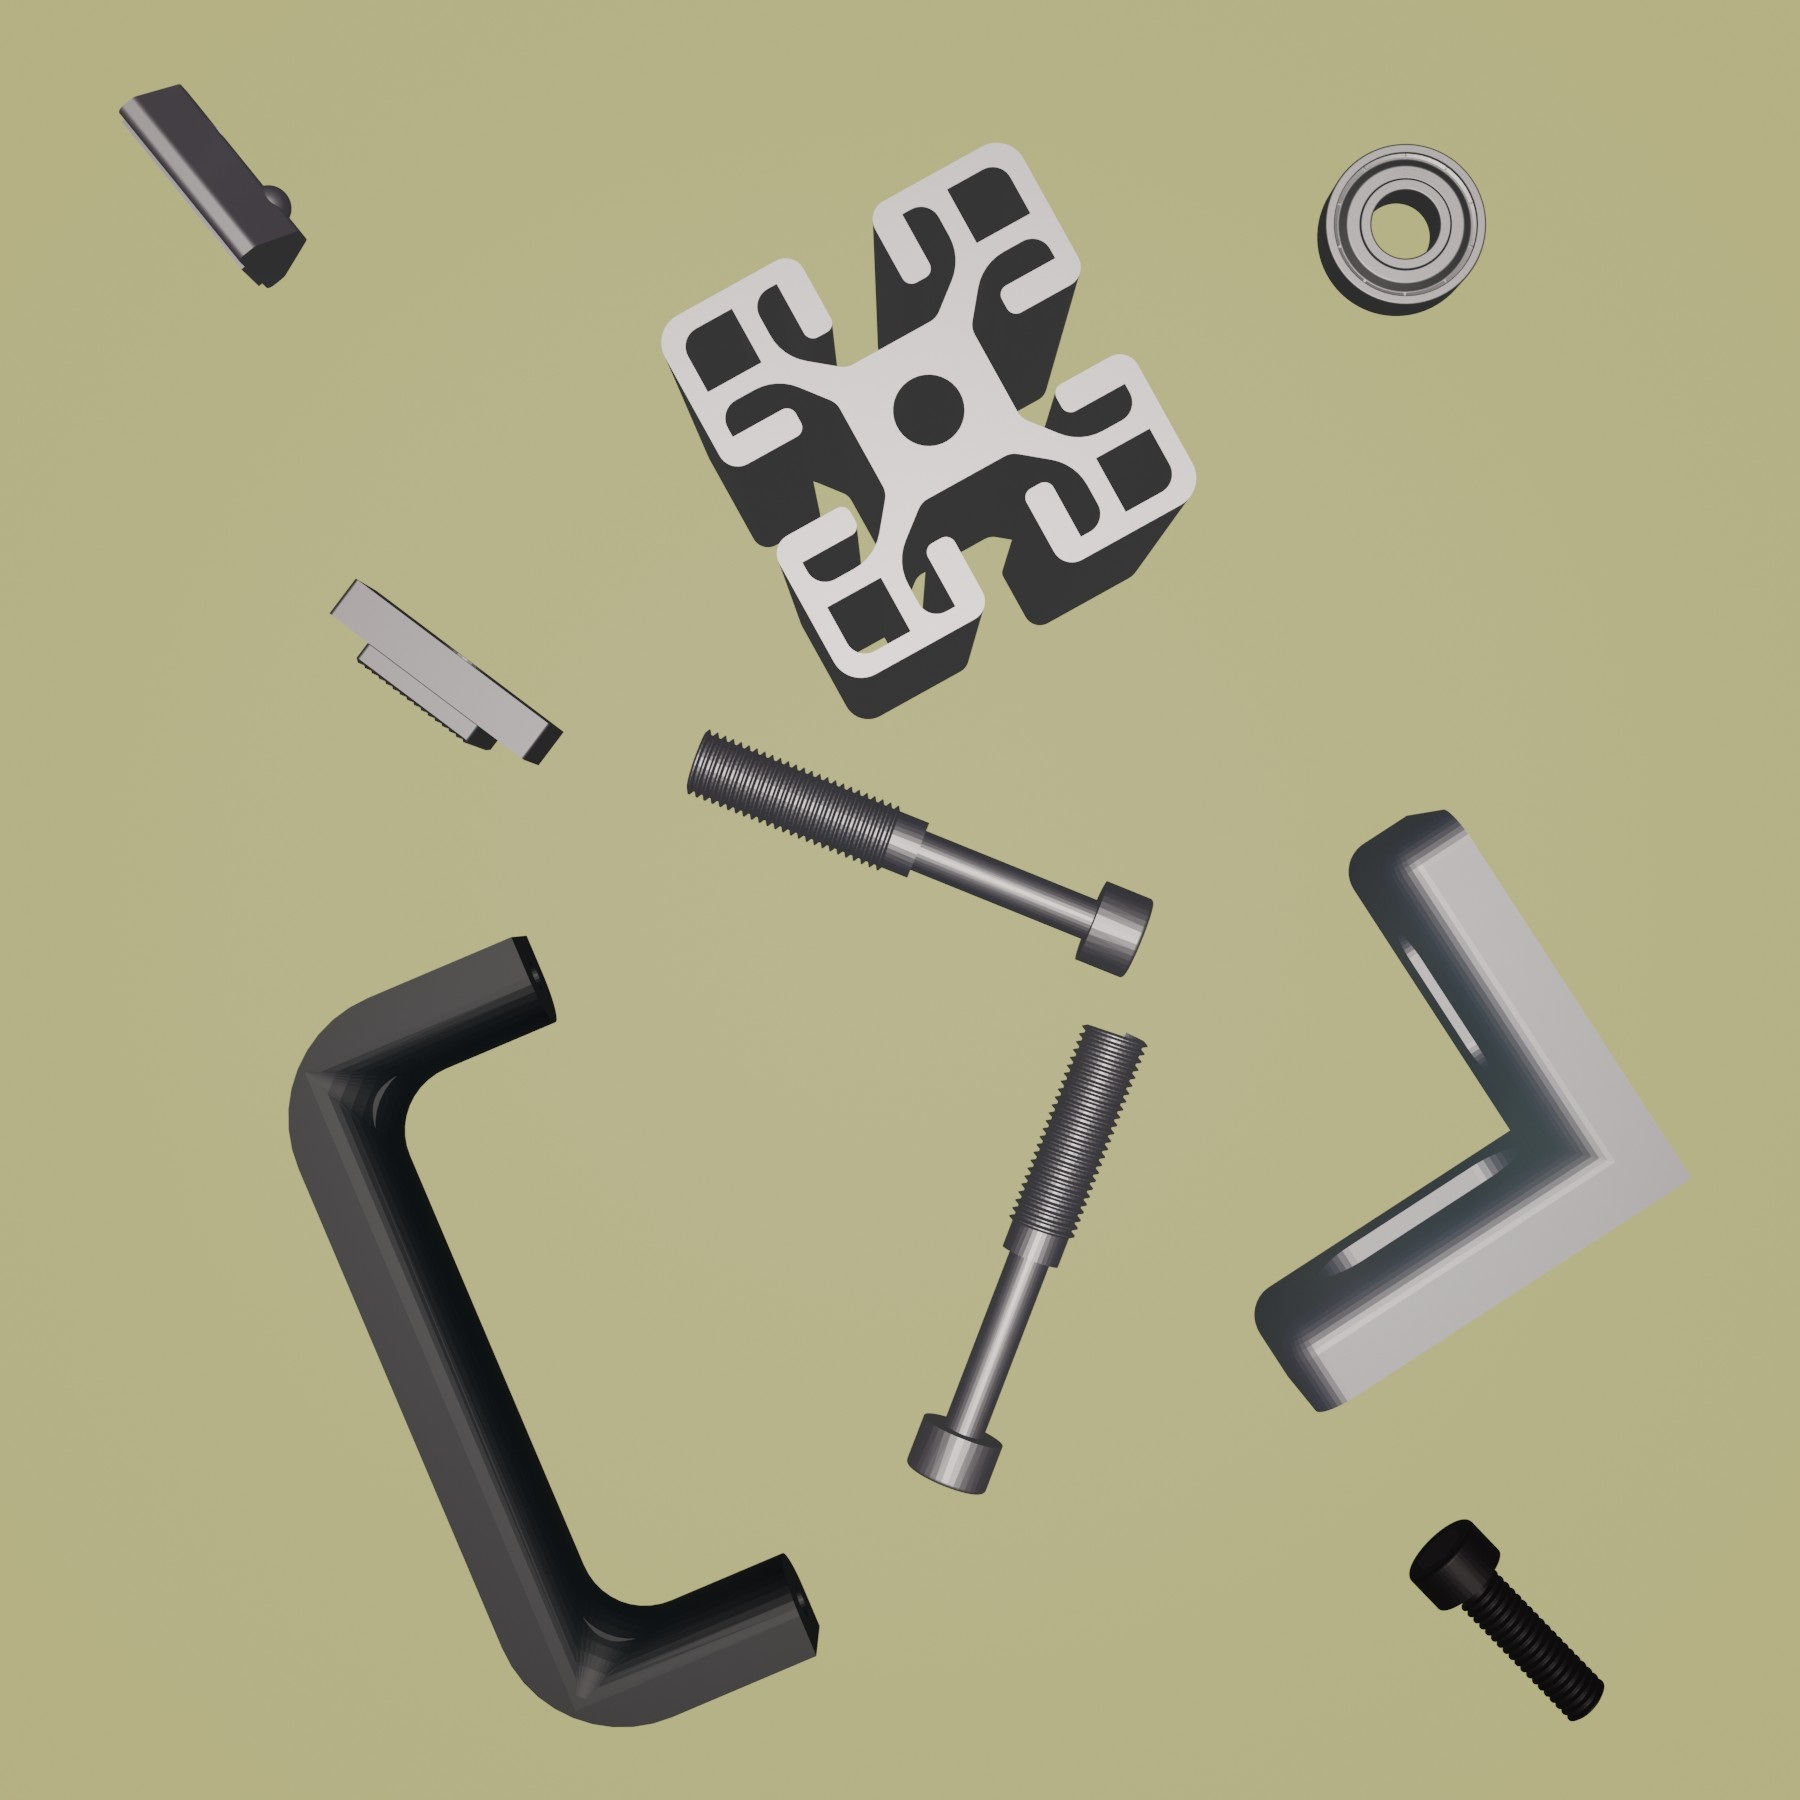Aluminium Extension: (656, 138, 1202, 722)
Ball Bearing: (1312, 138, 1490, 320)
Multiwinkel: (1249, 808, 1690, 1414)
Pull Handle: (284, 930, 821, 1731)
Shoulder Socket Head Cap Screw: (679, 729, 1154, 982), (905, 1019, 1151, 1497)
Socket Head Cap Screw: (1404, 1515, 1605, 1724)
T Nut Square: (325, 575, 569, 768)
T Spring Nut: (115, 82, 308, 292)
